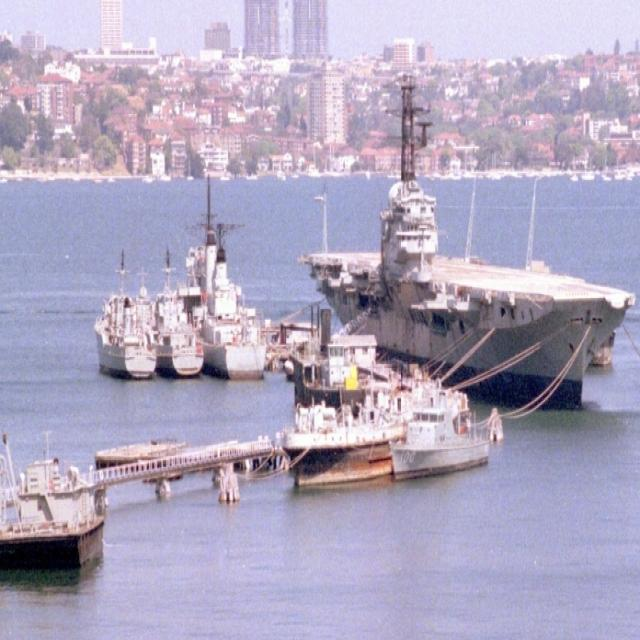Portanaves: (296, 64, 638, 417)
